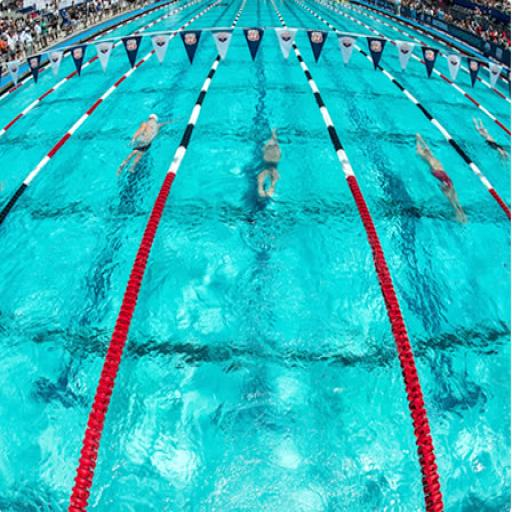swimming: (350, 98, 491, 312), (105, 73, 177, 252), (224, 107, 308, 229)
